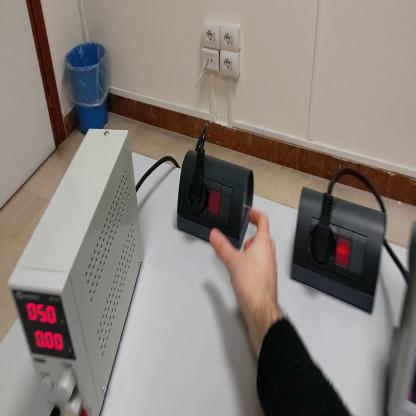hand: (210, 206, 281, 324)
oscilloscope: (386, 220, 416, 415)
power supply: (9, 126, 143, 415)
socket: (292, 182, 389, 315), (178, 150, 256, 247)
